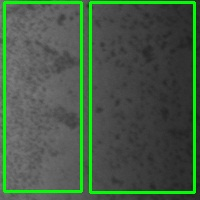pitted_surface: (90, 2, 194, 192), (4, 2, 81, 191)
